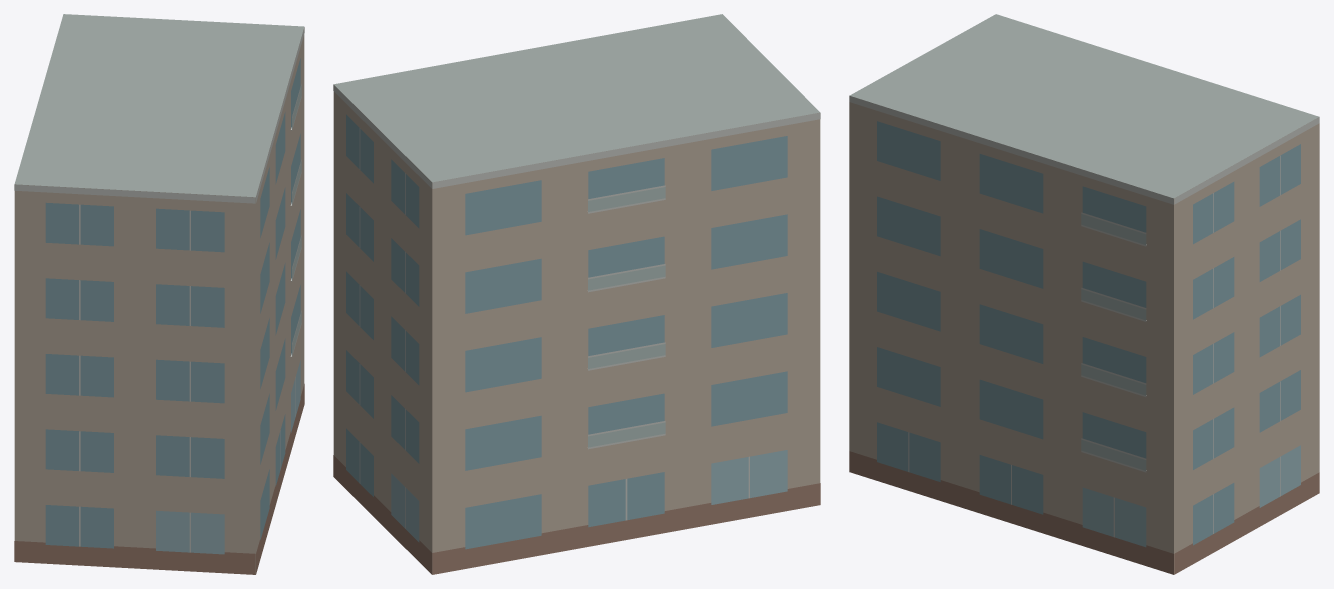
The model's file is survey-upis-32654337.glb.
3 views of the same model, side by side, from view 1: azimuth 30°, elevation 25°; view 2: azimuth 150°, elevation 25°; view 3: azimuth 270°, elevation 25° (orthographic). The views are drawn at different scales.
Parts seen in each view (by area): view 1: survey-upis-32654337.tmp; view 2: survey-upis-32654337.tmp; view 3: survey-upis-32654337.tmp.
Boxes of the visible parts, bbox=[...] form: survey-upis-32654337.tmp: bbox=[14, 14, 304, 574]; survey-upis-32654337.tmp: bbox=[333, 14, 820, 574]; survey-upis-32654337.tmp: bbox=[849, 14, 1319, 574].
Bounding box in the file's own units: 15.14 × 14.4 × 16.31.
